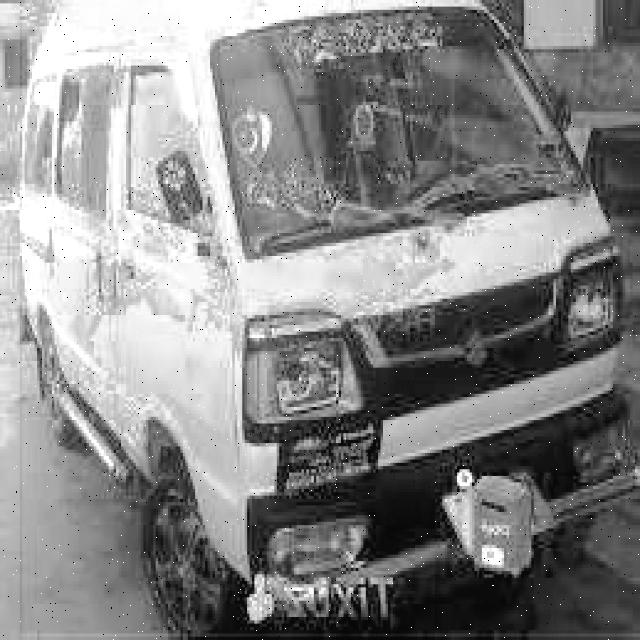LCV: (17, 0, 640, 637)
